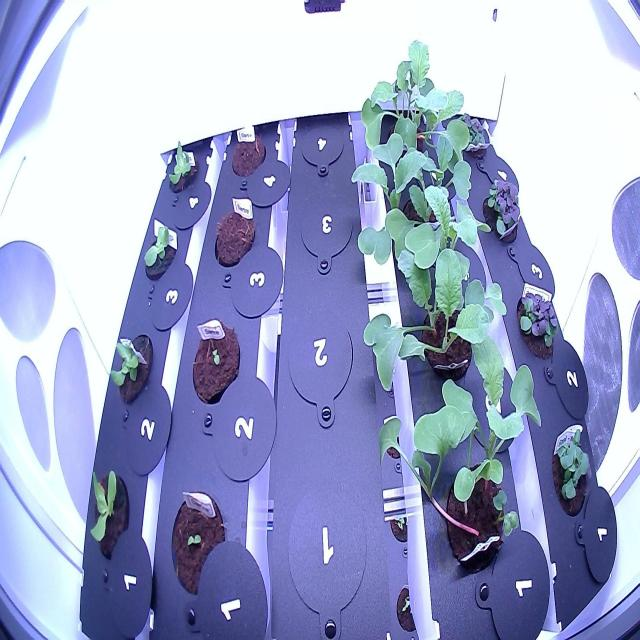Ready: (548, 421, 597, 525), (510, 278, 564, 368), (478, 167, 526, 257), (447, 97, 495, 167)
empty_pod: (282, 467, 372, 640), (280, 301, 360, 433), (293, 183, 356, 283), (298, 109, 350, 180)
germination: (167, 481, 233, 601), (186, 312, 244, 412)
pod: (212, 204, 261, 274), (227, 125, 269, 183)
young: (80, 460, 136, 569), (105, 326, 159, 407), (133, 211, 190, 282), (161, 134, 203, 203)
